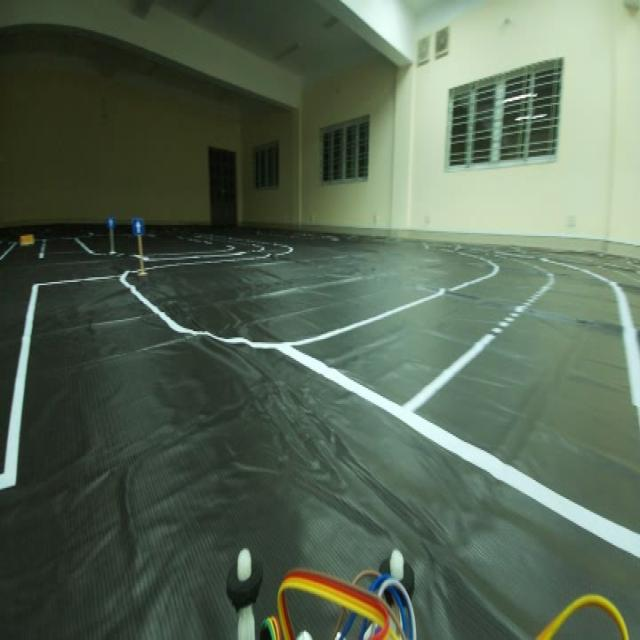onewayroad: (130, 211, 146, 237), (104, 212, 116, 230)
roadblock: (18, 228, 34, 250)
